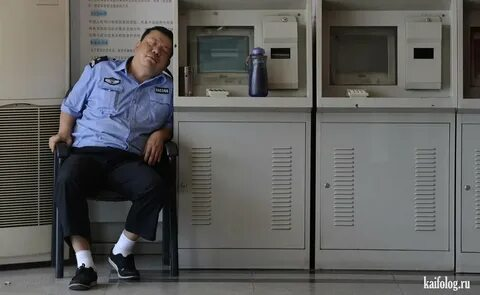sleep: (47, 26, 174, 292)
